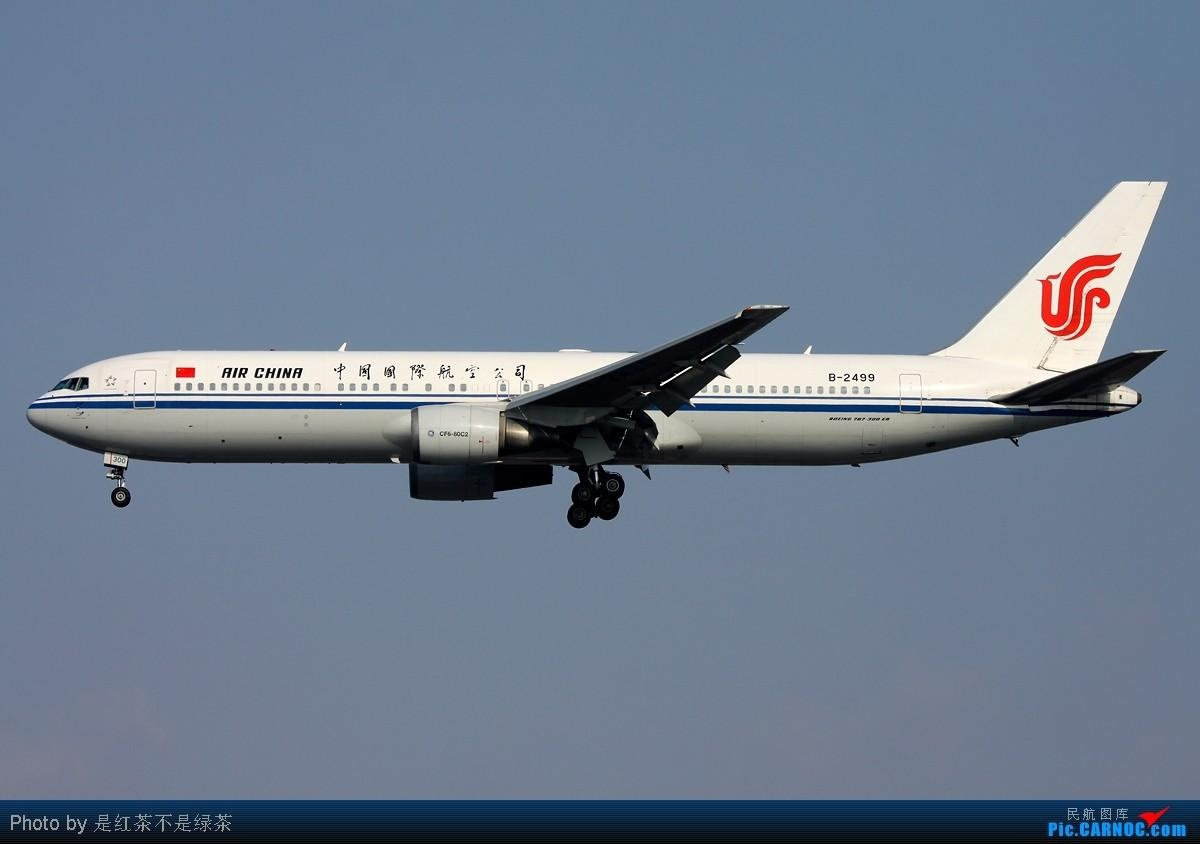airplane: (18, 175, 1187, 527)
